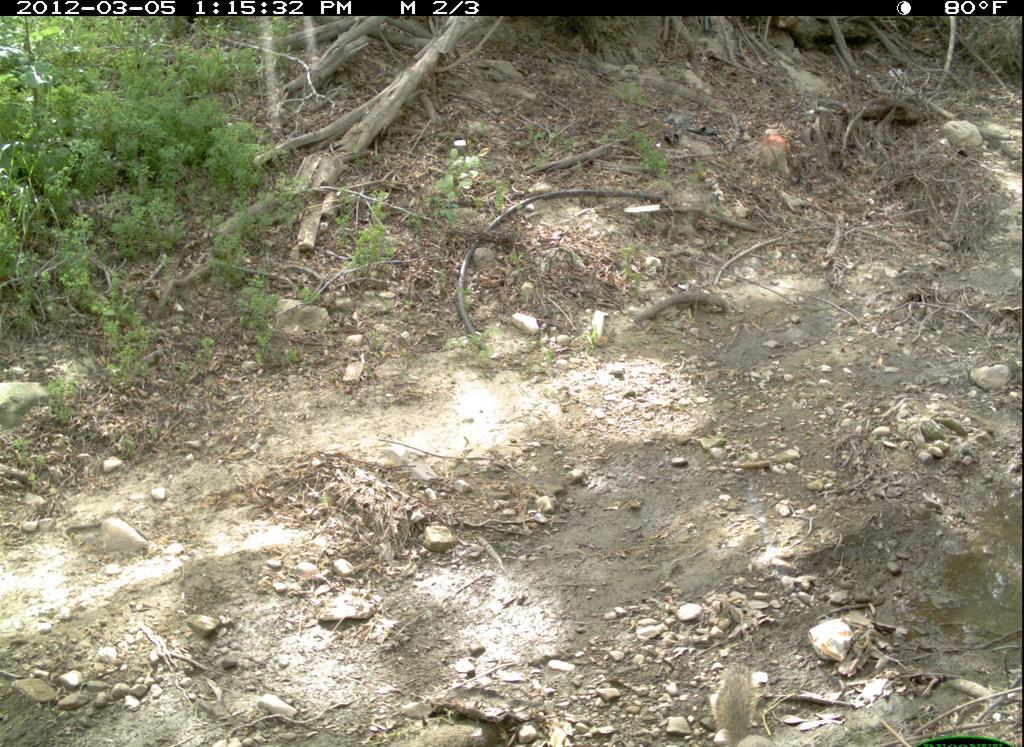squirrel: (699, 658, 792, 747)
